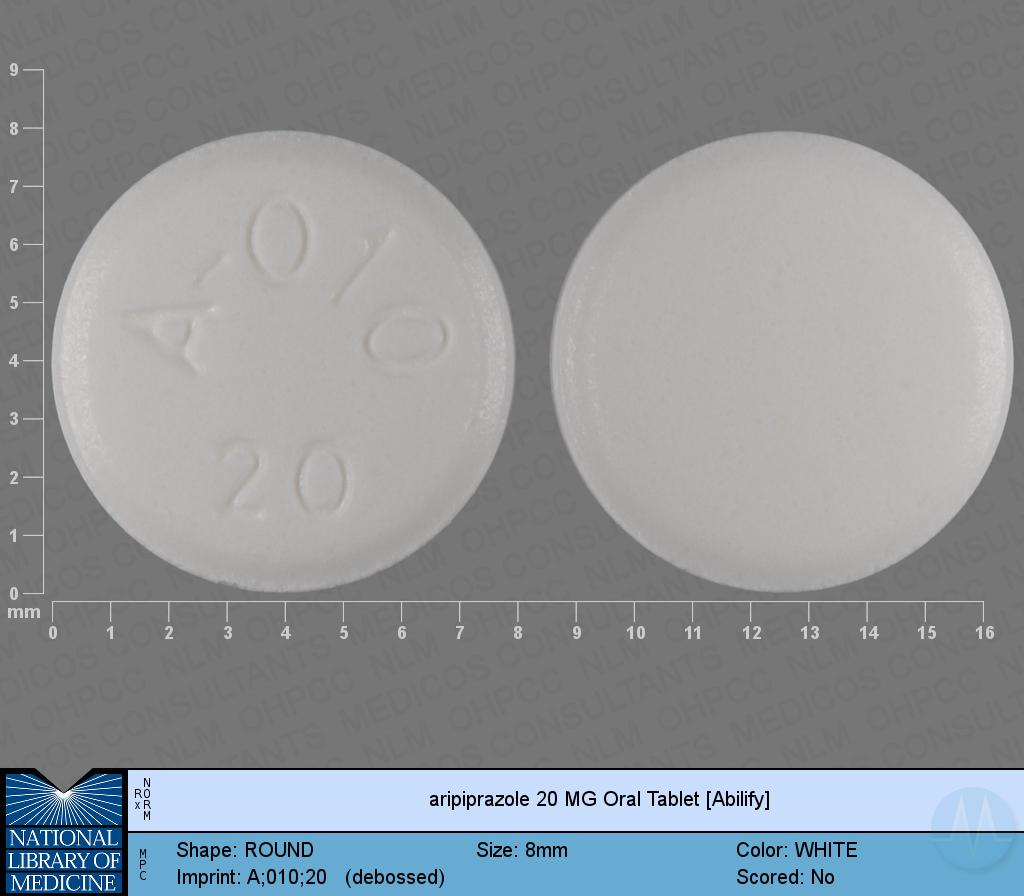Pill: (538, 120, 1024, 602), (43, 122, 523, 598)
